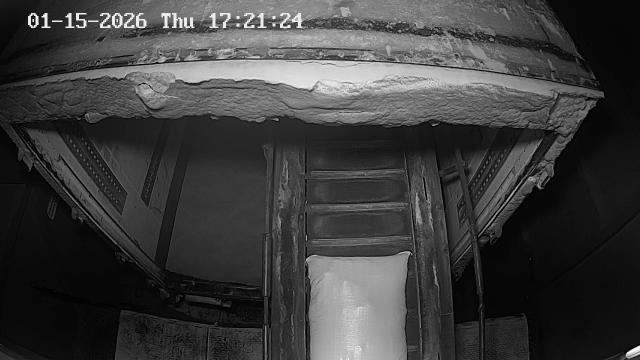bag: (306, 250, 414, 360)
